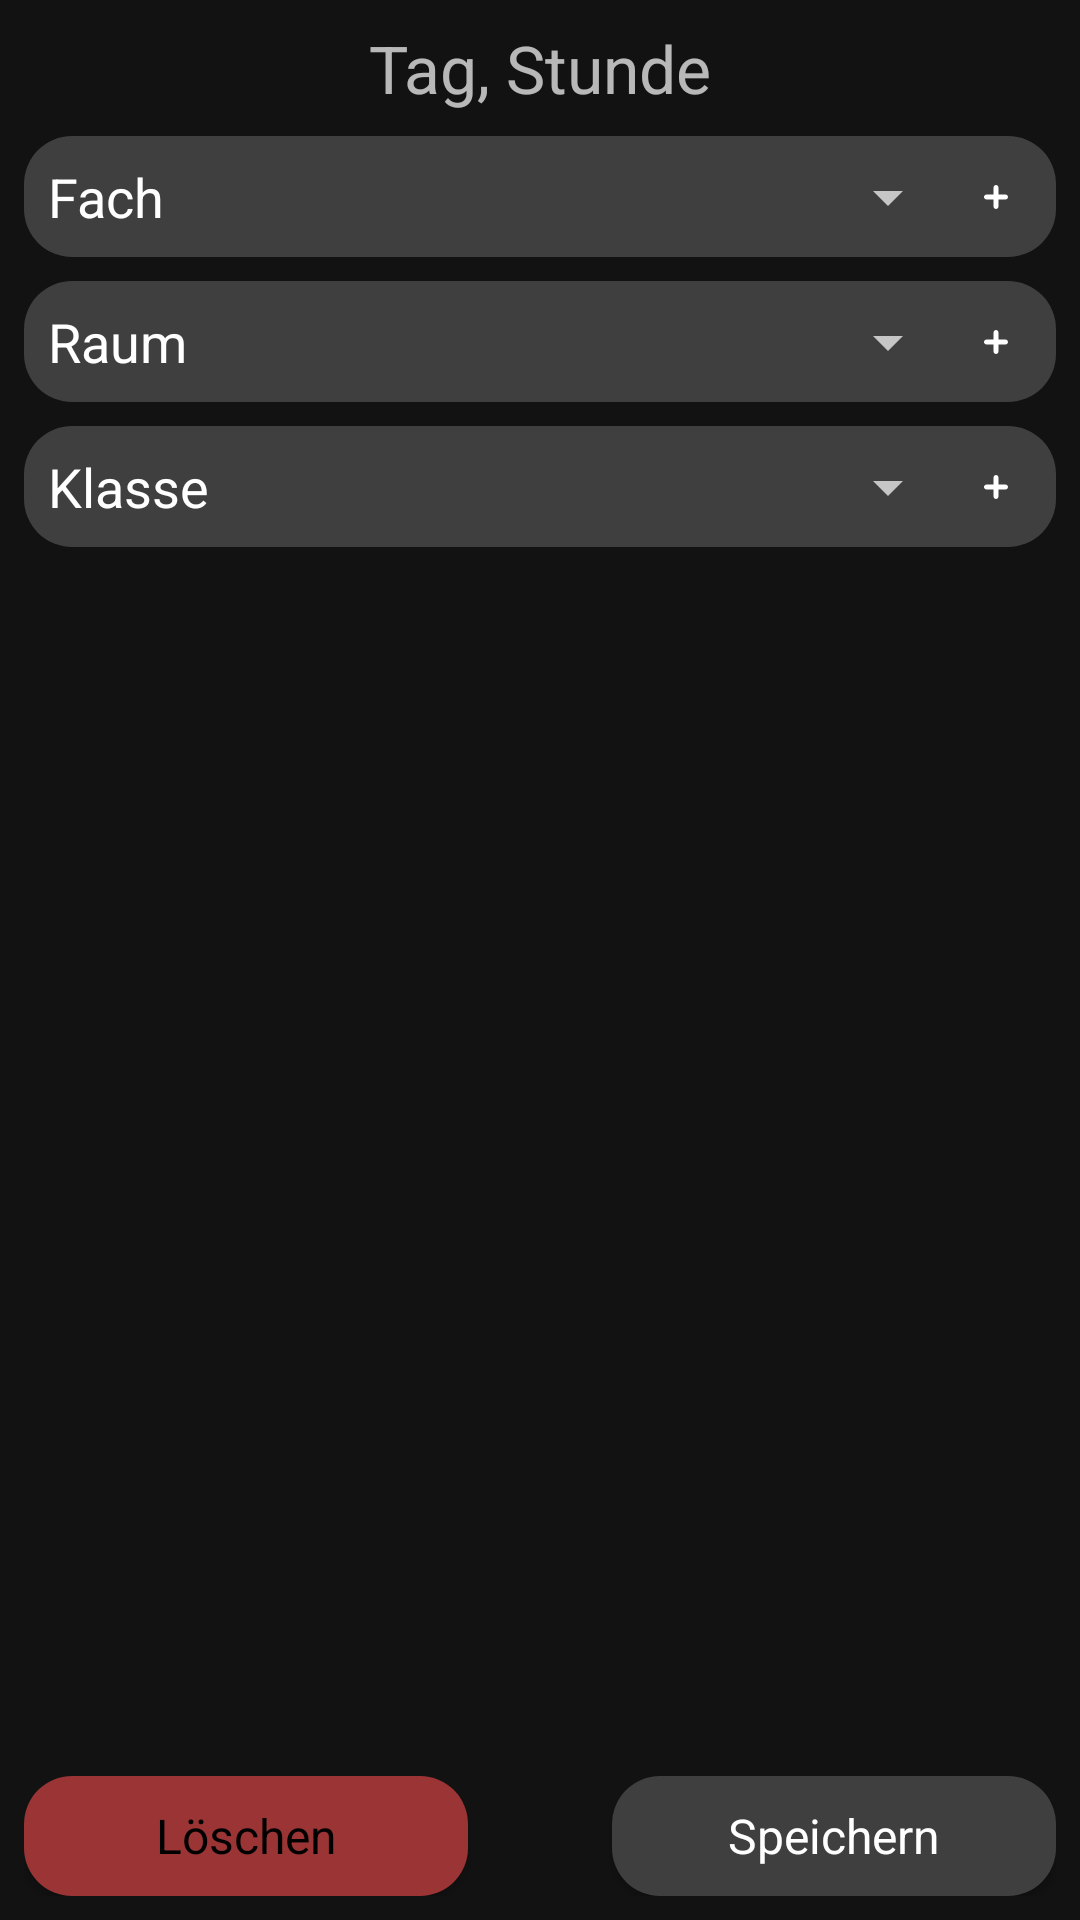

Locate icon controls on the screen. Image size 1080w x 1920h, boxes as (x1, y1, x2, y2).
add: (984, 185, 1008, 209), (984, 330, 1008, 354), (984, 475, 1008, 499)
